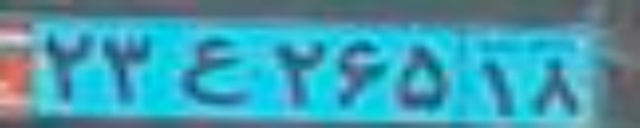1: (479, 59, 514, 116)
2: (43, 31, 96, 101), (277, 39, 328, 108)
3: (101, 33, 155, 104)
5: (393, 43, 454, 109)
6: (333, 40, 388, 107)
8: (524, 57, 587, 116)
ain: (176, 38, 256, 105)
